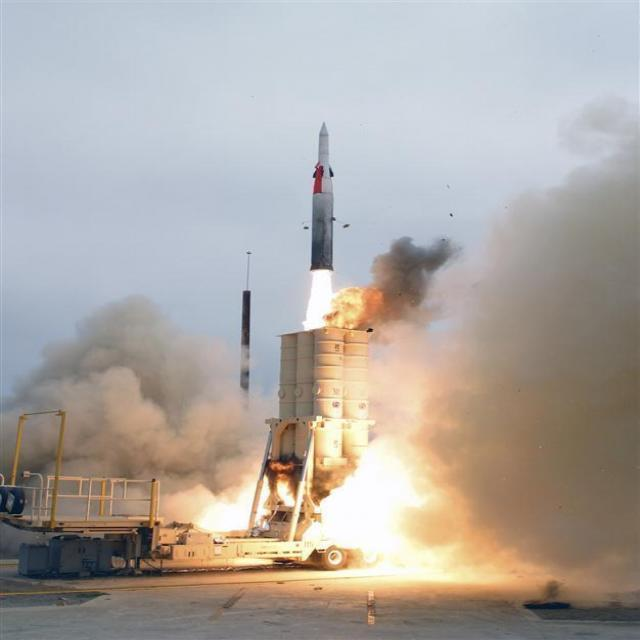Missile: (303, 120, 342, 283), (238, 278, 256, 417)
